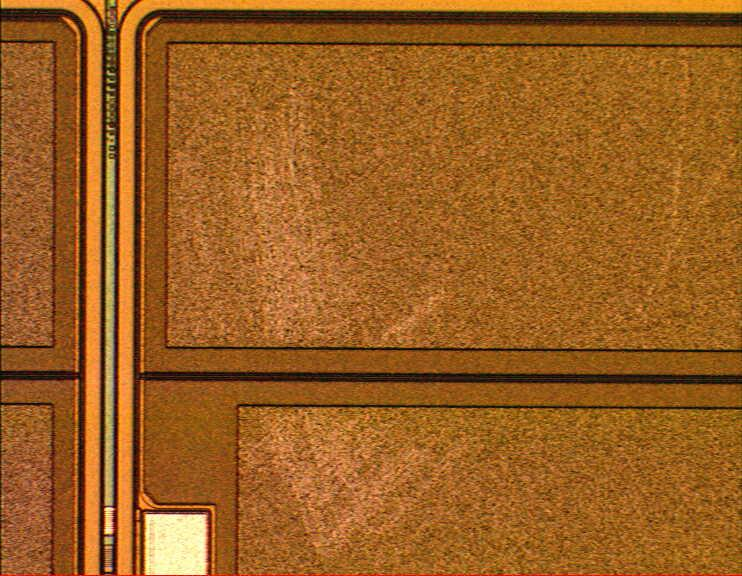SCRATCH: (172, 73, 502, 565)
